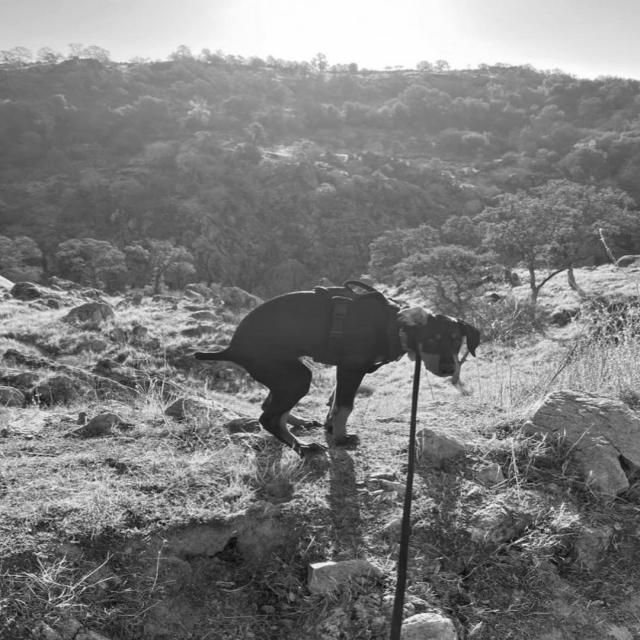squatting: (190, 275, 486, 458)
